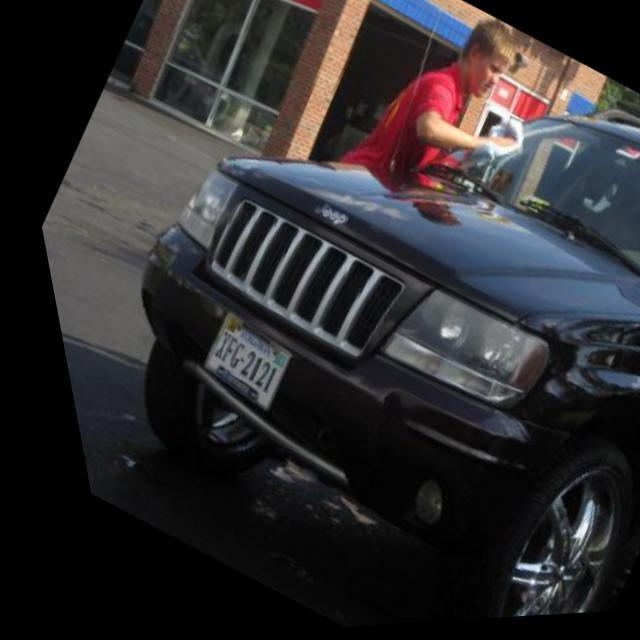license_plate: (174, 309, 292, 418)
